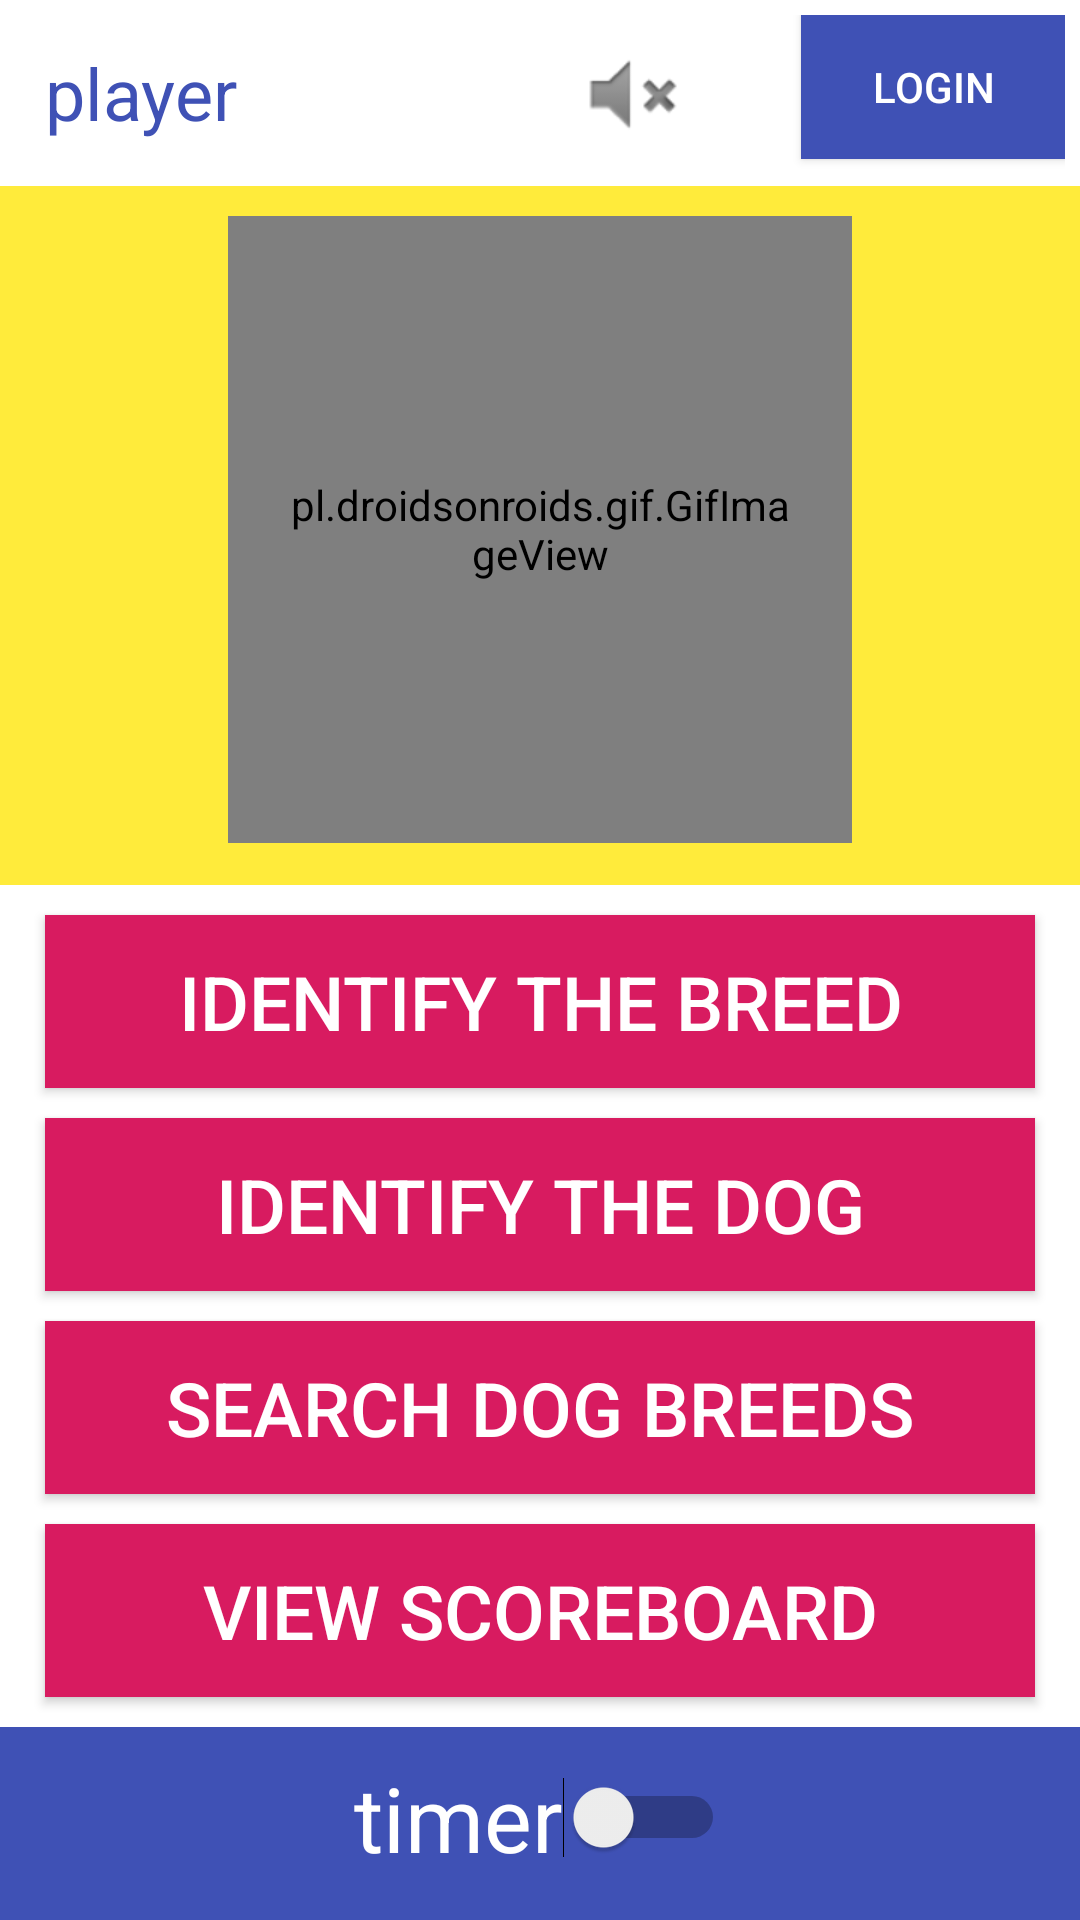

Named icons in this screenshot (1080 x 1920) and their bounding boxes, (left=x1, top=y1, right=x2, bottom=y2):
lock silent mode: (left=590, top=61, right=677, bottom=128)
